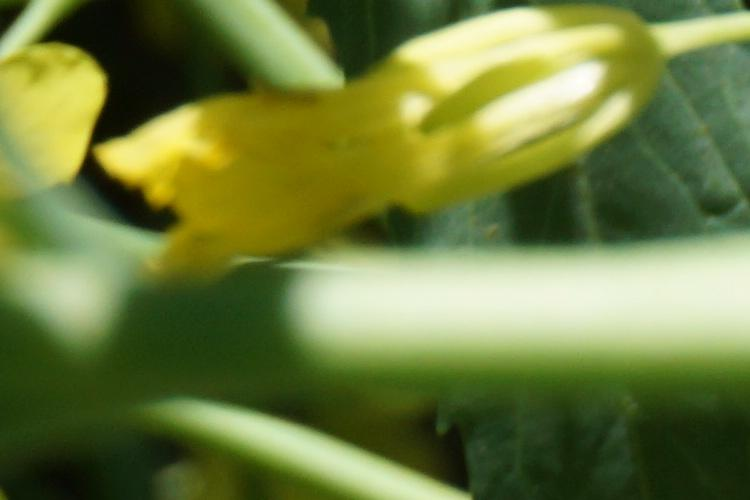yellow: (121, 38, 648, 219)
